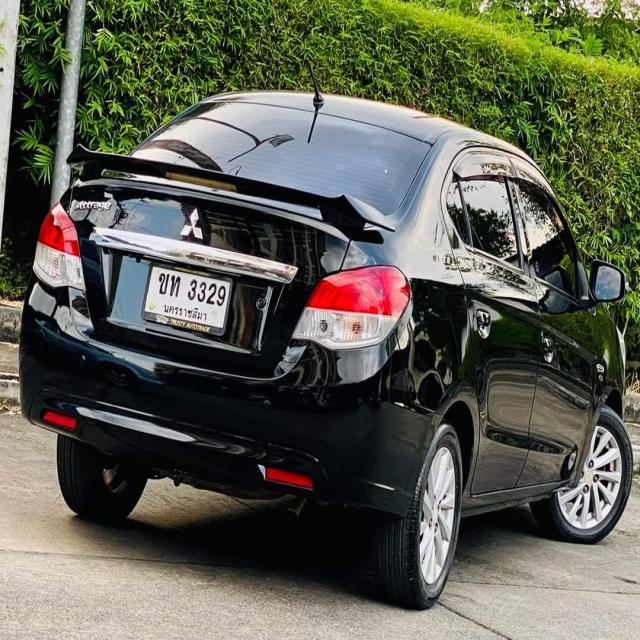license_plate: (141, 251, 236, 344)
